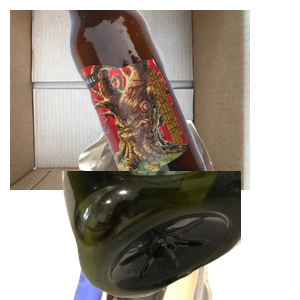cardboard: (10, 10, 250, 190)
glass: (65, 10, 300, 190)
plastic: (60, 171, 300, 300)
trash: (63, 120, 300, 300)
